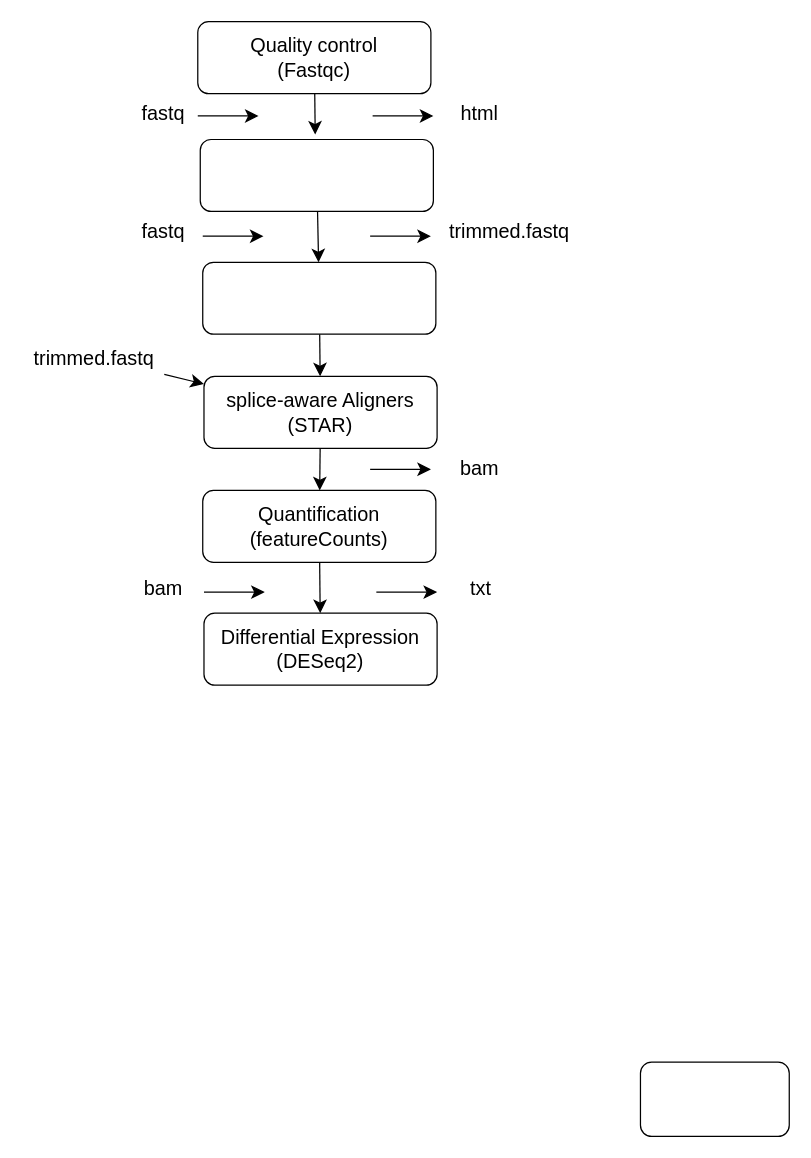
The diagram is 811 pixels wide and 1158 high, and some of its shapes have lost their labels. The box of each missing label's shape, as (x1, y1, x2, y2) in pixels:
indexing and Mapping to genome: (202, 261, 436, 334)
Trimming (Trimmomatic): (199, 138, 433, 211)
